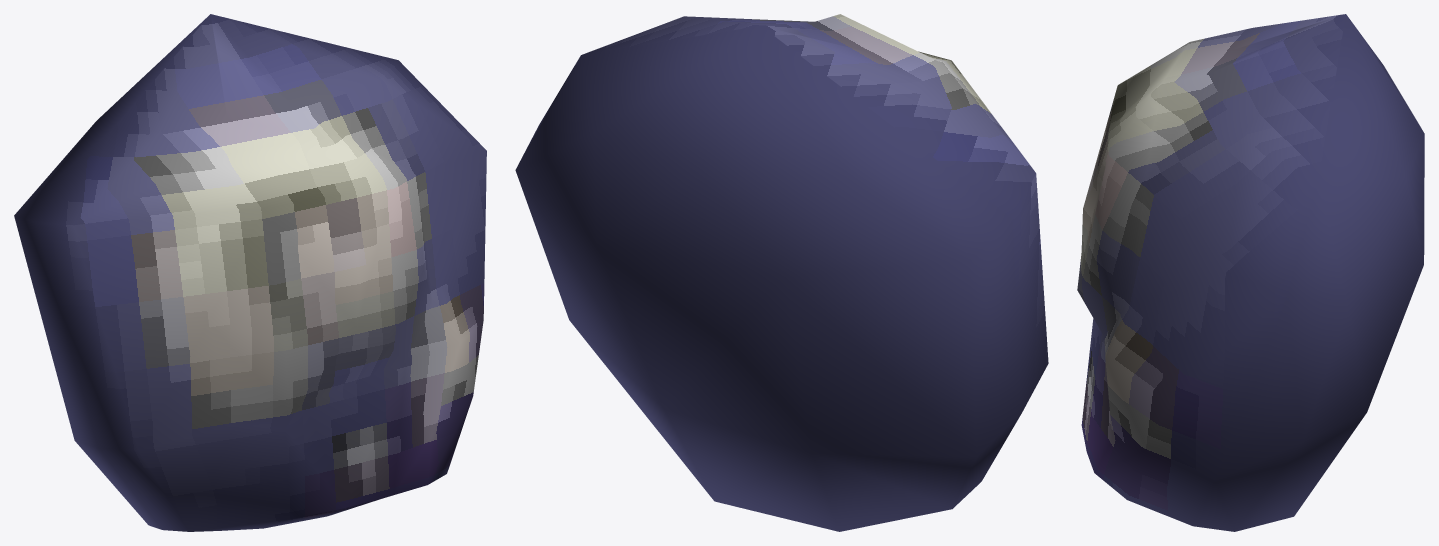
Rendered from fg_fossil.dae.
The picture shows the model from 3 angles, left to right: view 1: azimuth 30°, elevation 25°; view 2: azimuth 150°, elevation 25°; view 3: azimuth 270°, elevation 25°; orthographic projection. The views are drawn at different scales.
Parts seen in each view (by area): view 1: fg_fossil; view 2: fg_fossil; view 3: fg_fossil.
Part boxes in pixels (box(x1,y1,x2,y2)): fg_fossil: box(14, 14, 486, 531); fg_fossil: box(515, 14, 1048, 531); fg_fossil: box(1077, 14, 1424, 531).
Size of the model in its own units: 14.09 by 14.54 by 9.73.
1 material, 1 textured.
